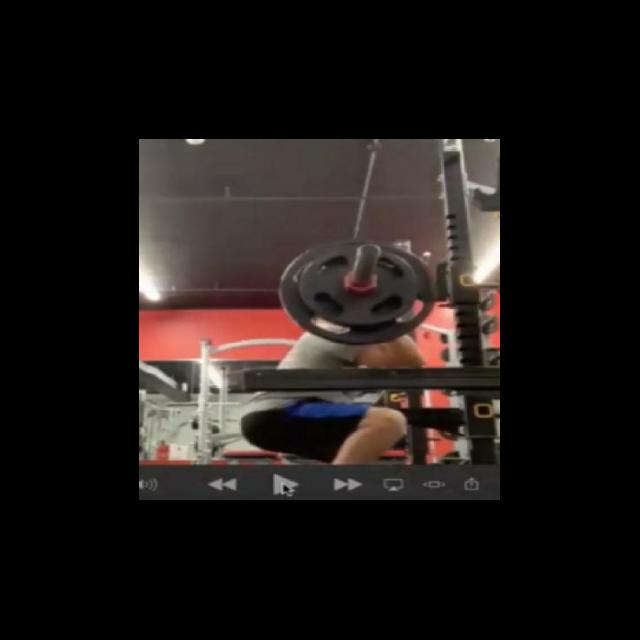barbell: (275, 237, 437, 346)
